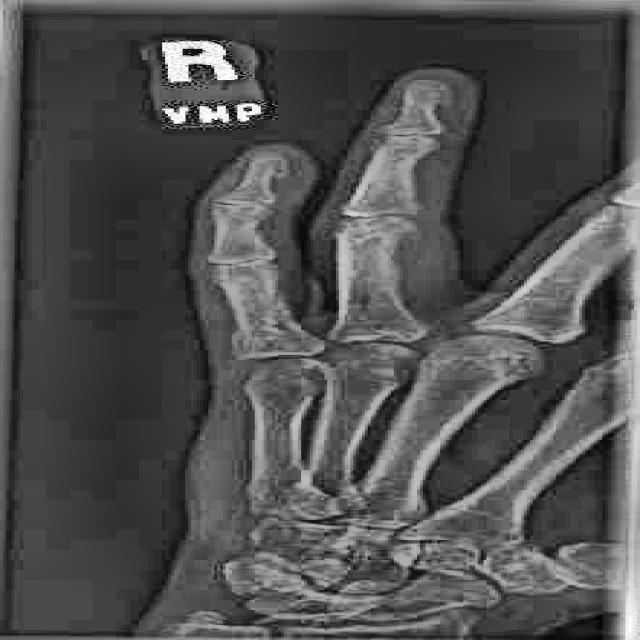fingers positive: (320, 211, 432, 280), (214, 303, 323, 373)
